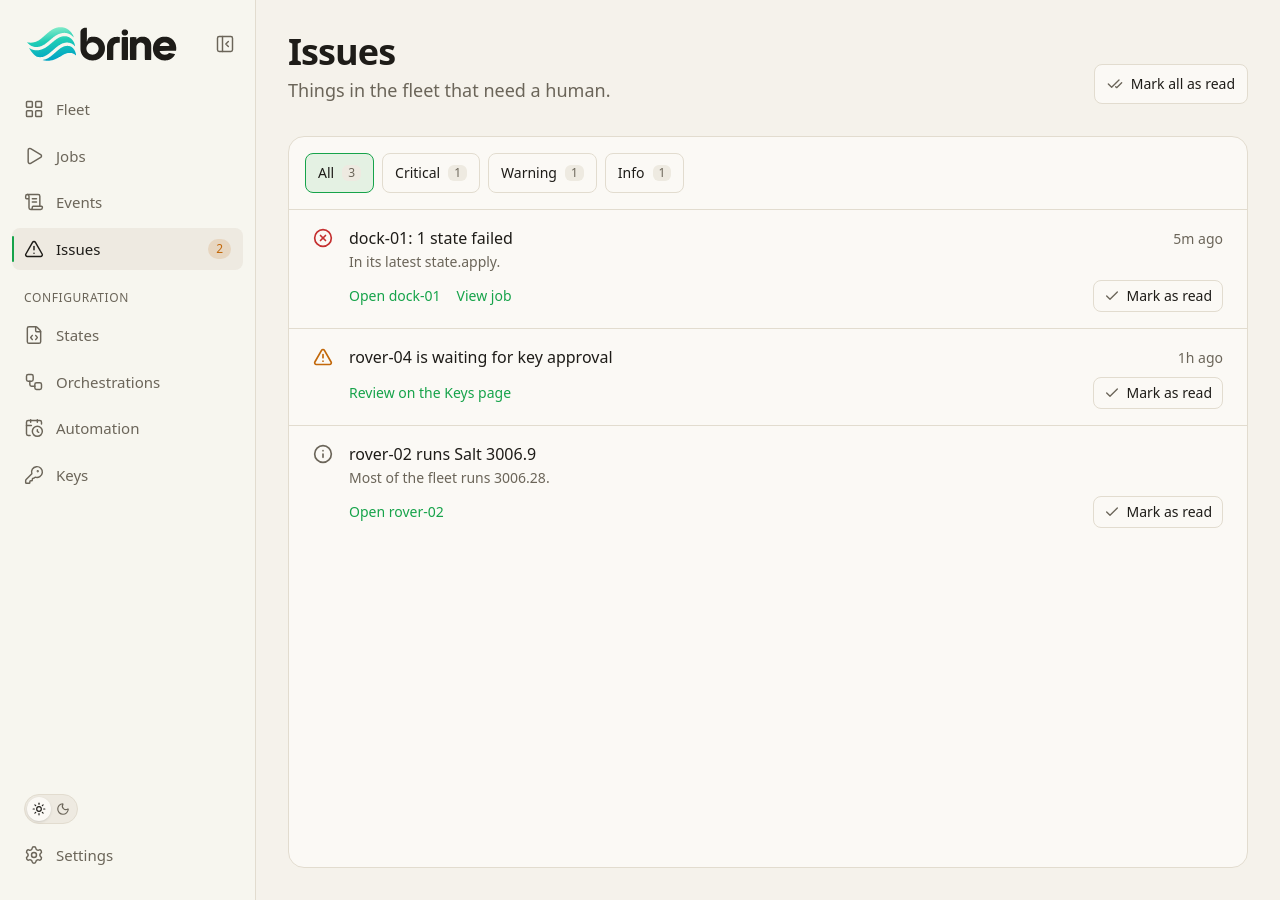
Test: IssuesPage › filters by severity
Click the tab "Info 1": {"x": 645, "y": 173} top-left (605, 153), bottom-right (684, 193)
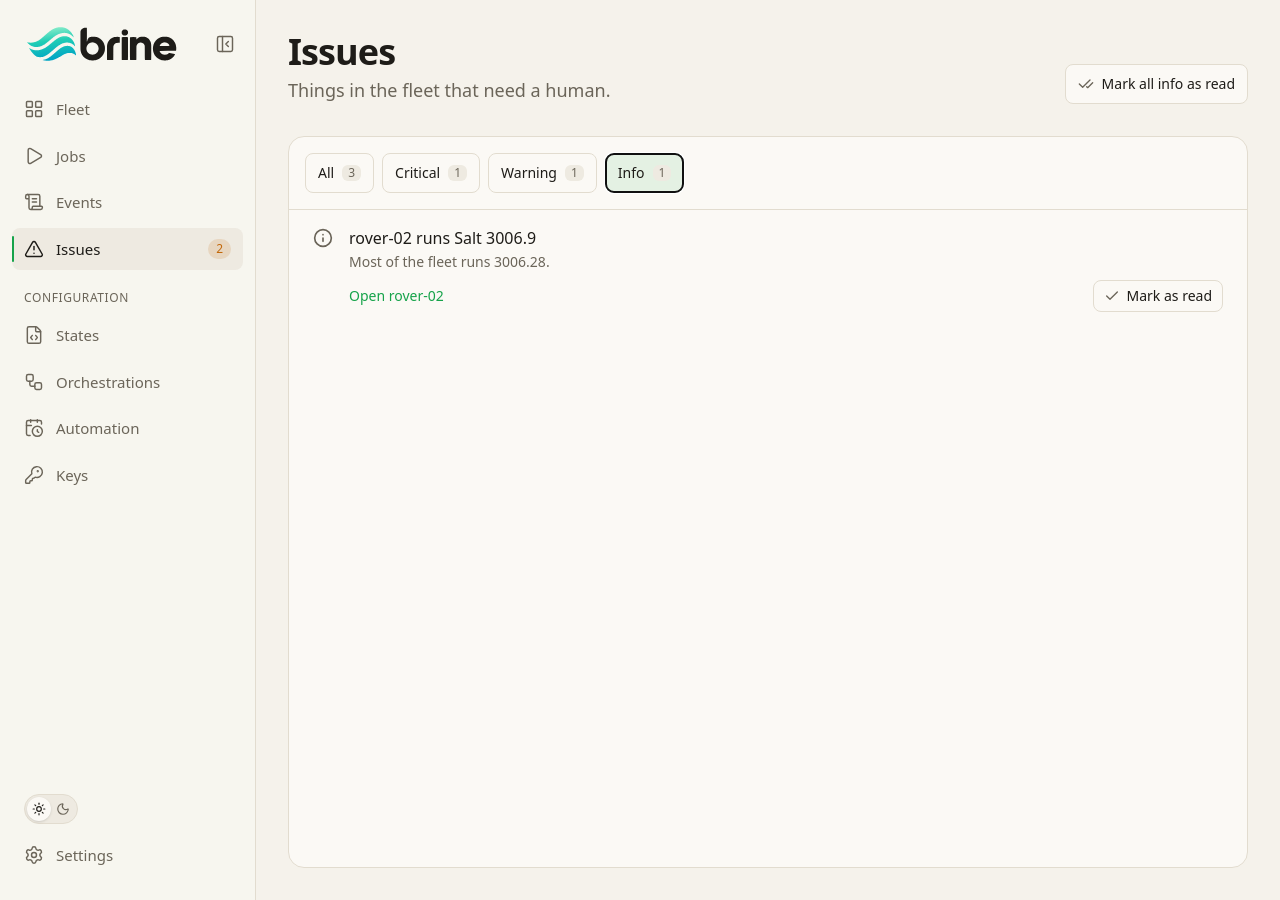
Expected: the text "rover-02 runs Salt 3006.9" is shown, top-left (349, 226), bottom-right (536, 250)
Expected: the number of list items is 1, top-left (289, 209), bottom-right (1247, 328)
